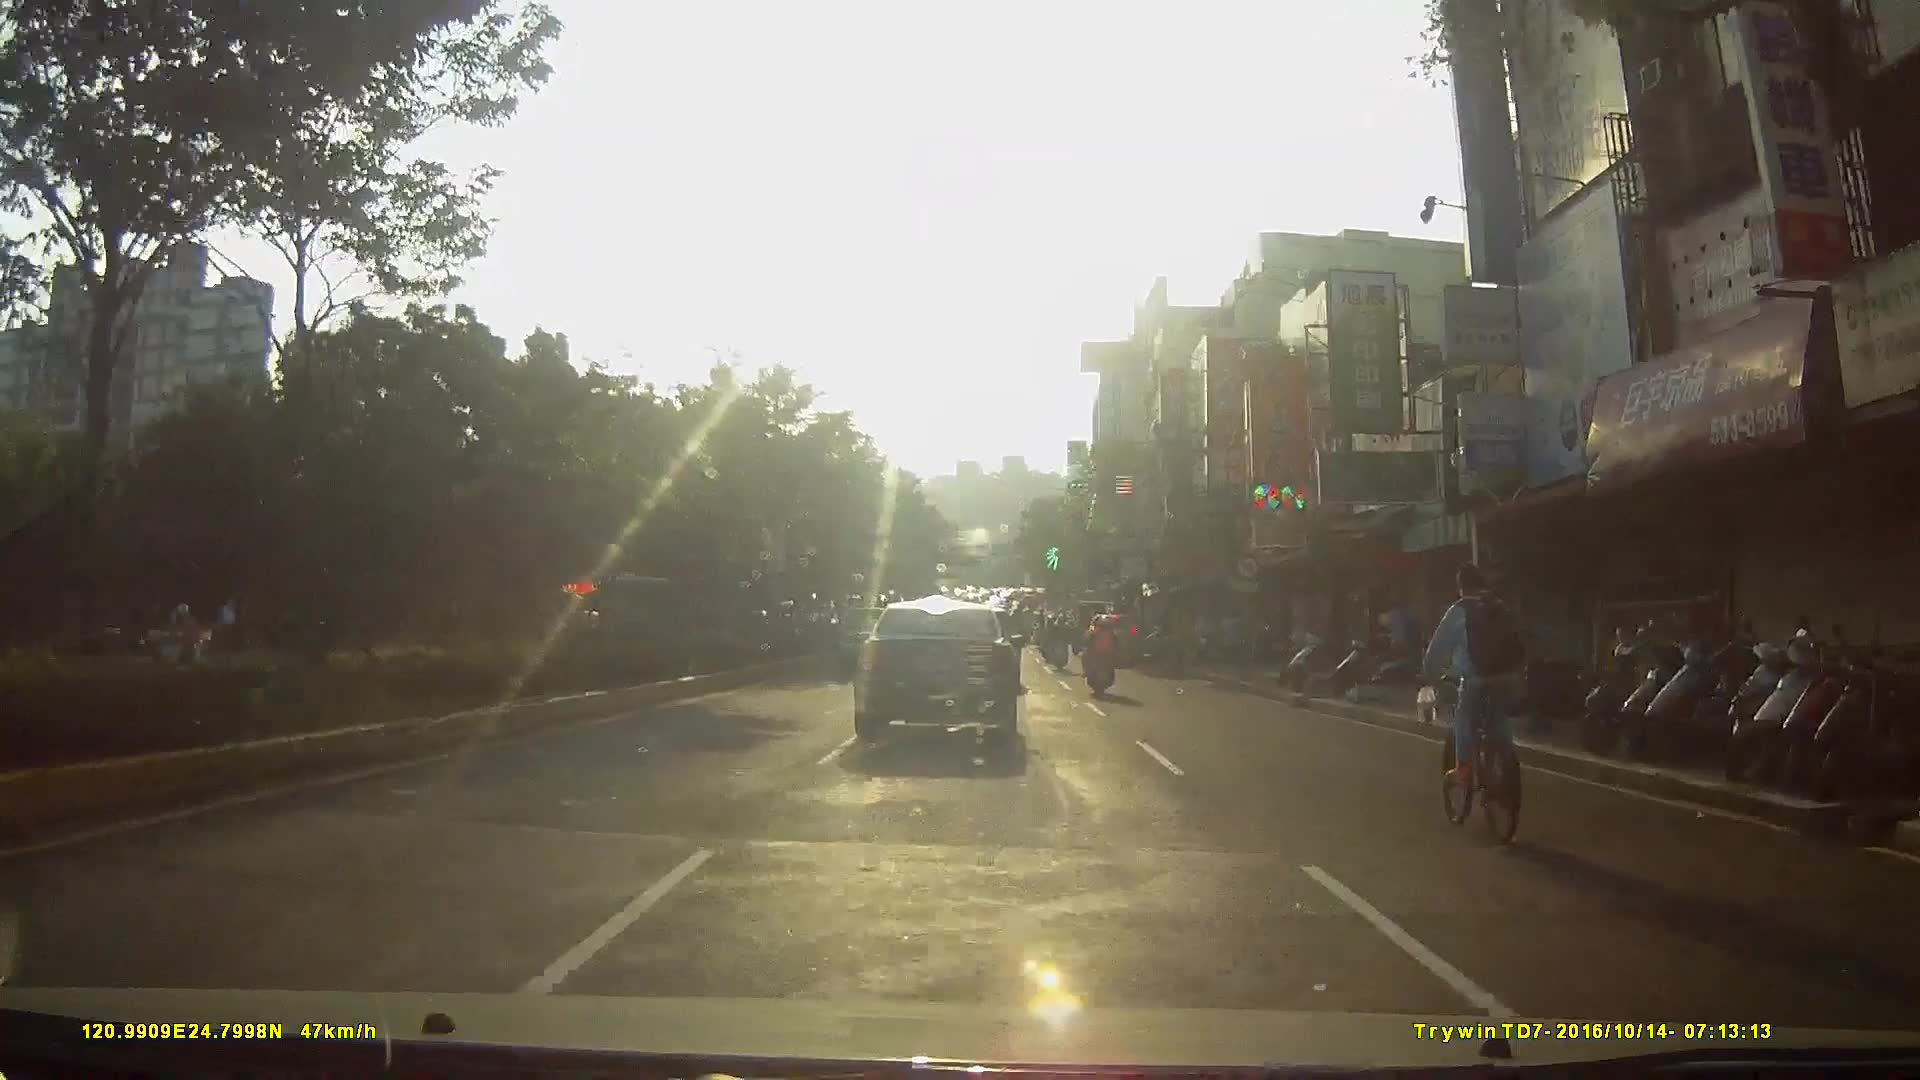rider: (1420, 567, 1527, 844), (151, 599, 208, 692), (1080, 621, 1119, 711), (1045, 617, 1073, 676)
vehicle: (849, 599, 1036, 767), (1081, 608, 1149, 670)
